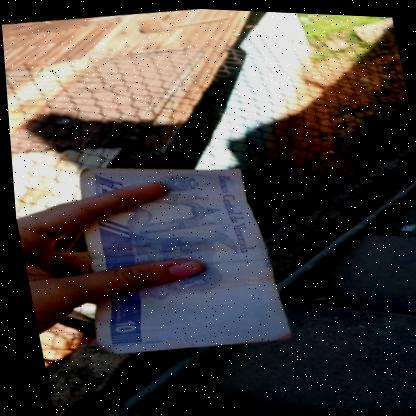ten-back-vef: (54, 146, 290, 363)
